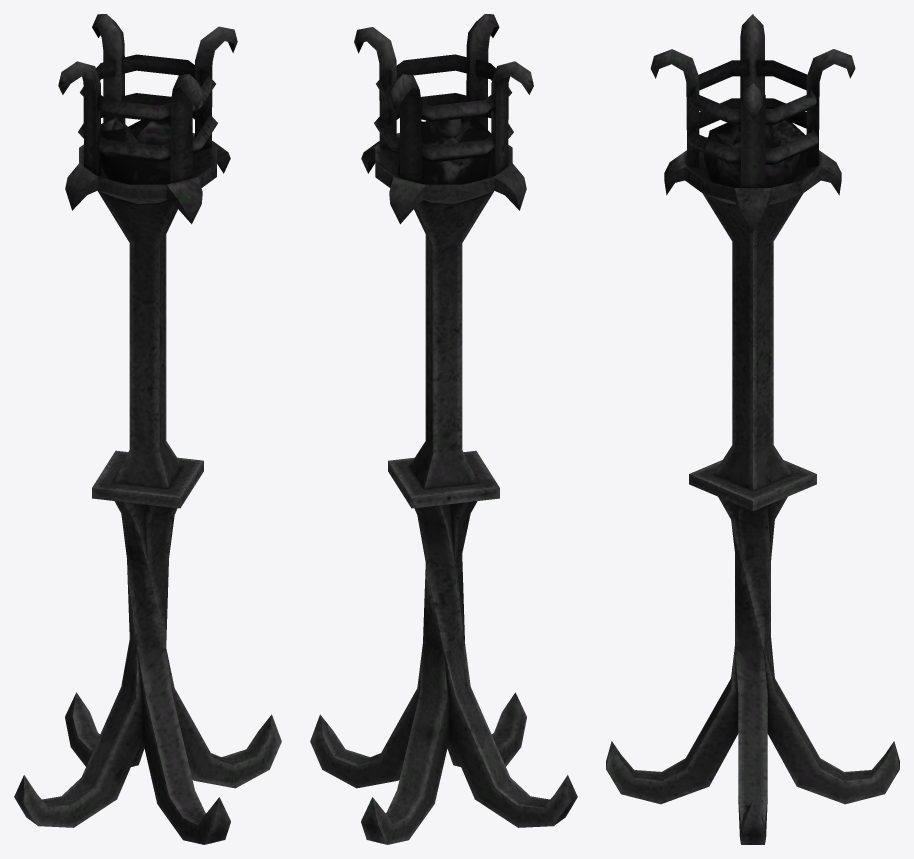
File: torch_floor_green.dae
The picture shows the model from 3 angles, left to right: view 1: azimuth 30°, elevation 25°; view 2: azimuth 150°, elevation 25°; view 3: azimuth 270°, elevation 25°; orthographic projection.
Visible parts, largest first — view 1: torch_floor_mesh; view 2: torch_floor_mesh; view 3: torch_floor_mesh.
Boxes of the visible parts, x1=… form: torch_floor_mesh: x1=14, y1=14, x2=281, y2=844; torch_floor_mesh: x1=310, y1=14, x2=577, y2=844; torch_floor_mesh: x1=606, y1=14, x2=899, y2=844.
Bounding box in the file's own units: 0.4188 × 1.18 × 0.4188.
